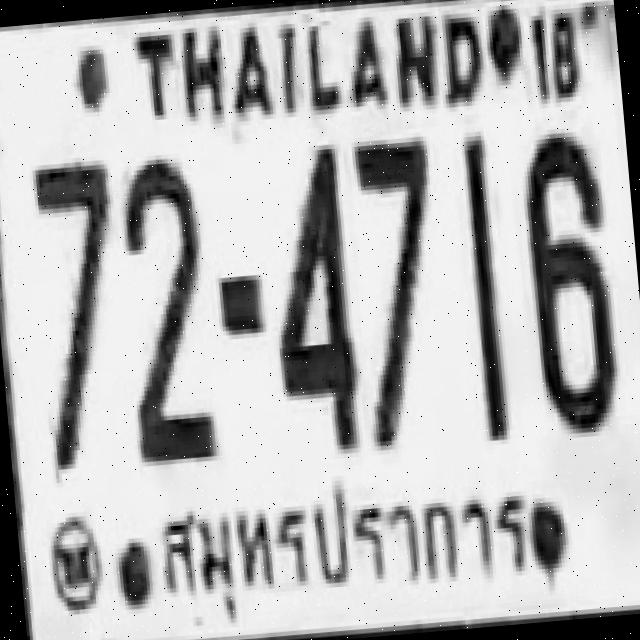1: (457, 133, 509, 430)
2: (112, 154, 218, 460), (113, 154, 215, 433)
4: (259, 141, 363, 451)
6: (516, 128, 620, 434)
7: (27, 157, 132, 472), (348, 136, 449, 446)
SamutPrakan: (136, 457, 548, 640)
